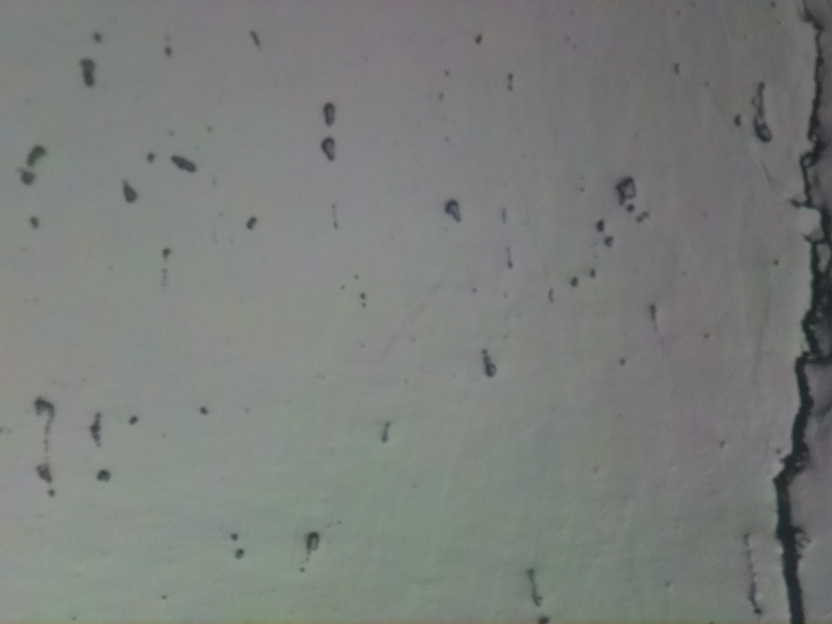crack: (774, 0, 832, 624)
